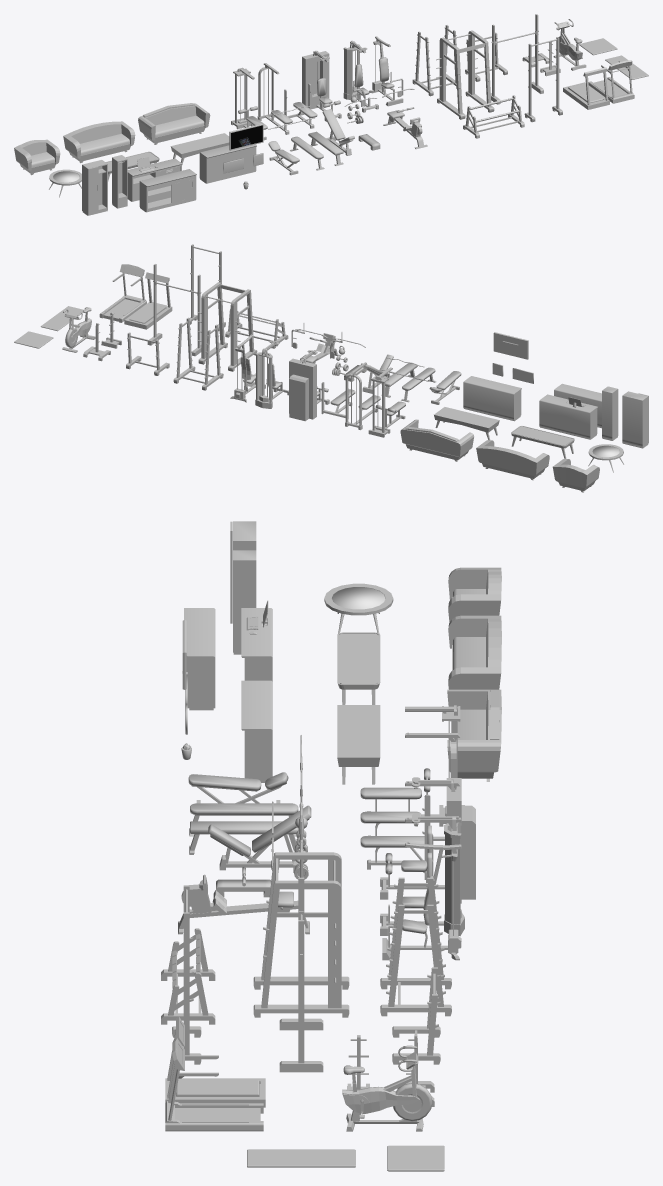
File: VNB_Gym_Set.fbx
3 views of the same model, one above another, from view 1: azimuth 30°, elevation 25°; view 2: azimuth 150°, elevation 25°; view 3: azimuth 270°, elevation 25° (orthographic). The views are drawn at different scales.
Parts seen in each view (by area): view 1: Sm_Machine, Sofa_2, Sofa_1, E_Machine_3, Desk_1, Desk_3, Sofa_3, E_Machine_4, Drawer_1, Treadmill_1_Main, Barbell_Stand_2, Desk_2 (+24 smaller); view 2: Sm_Machine, Desk_1, Desk_2, E_Machine_3, Sofa_1, Sofa_2, Drawer_1, Barbell_Stand_1, Treadmill_1_Main, E_Machine_4, Sofa_3, E_Machine_1 (+20 smaller); view 3: Sm_Machine, Sofa_1, Sofa_2, Treadmill_1_Main, Barbell_Stand_1, Exercise_Bike, E_Machine_3, Desk_1, Desk_3, CTable_1, CTable_2, Sofa_3 (+22 smaller).
Part boxes in pixels (<box>): Sm_Machine: <box>436,30,494,119</box>; Sofa_2: <box>63,121,135,163</box>; Sofa_1: <box>138,103,210,144</box>; E_Machine_3: <box>302,50,341,121</box>; Desk_1: <box>199,144,256,183</box>; Desk_3: <box>139,169,196,212</box>; Sofa_3: <box>14,139,60,175</box>; E_Machine_4: <box>343,41,378,112</box>; Drawer_1: <box>82,160,107,215</box>; Treadmill_1_Main: <box>588,60,634,103</box>; Barbell_Stand_2: <box>463,95,524,138</box>; Desk_2: <box>127,158,182,201</box>; Sm_Machine: <box>198,282,257,371</box>; Desk_1: <box>463,376,521,421</box>; Desk_2: <box>539,394,597,439</box>; E_Machine_3: <box>289,350,329,421</box>; Sofa_1: <box>400,419,474,461</box>; Sofa_2: <box>476,440,549,480</box>; Drawer_1: <box>622,391,648,448</box>; Barbell_Stand_1: <box>173,317,223,390</box>; Treadmill_1_Main: <box>99,264,146,322</box>; E_Machine_4: <box>255,340,288,408</box>; Sofa_3: <box>552,458,599,492</box>; E_Machine_1: <box>368,367,405,437</box>; Sm_Machine: <box>253,852,349,1017</box>; Sofa_1: <box>447,689,501,781</box>; Sofa_2: <box>448,615,501,689</box>; Treadmill_1_Main: <box>165,1038,263,1131</box>; Barbell_Stand_1: <box>380,877,451,1016</box>; Exercise_Bike: <box>342,1045,432,1131</box>; E_Machine_3: <box>380,778,475,903</box>; Desk_1: <box>241,680,272,782</box>; Desk_3: <box>184,608,215,710</box>; CTable_1: <box>337,705,380,784</box>; CTable_2: <box>337,632,380,704</box>; Sofa_3: <box>448,567,501,622</box>.
Bounding box in the file's own units: 2318 × 292 × 594.
